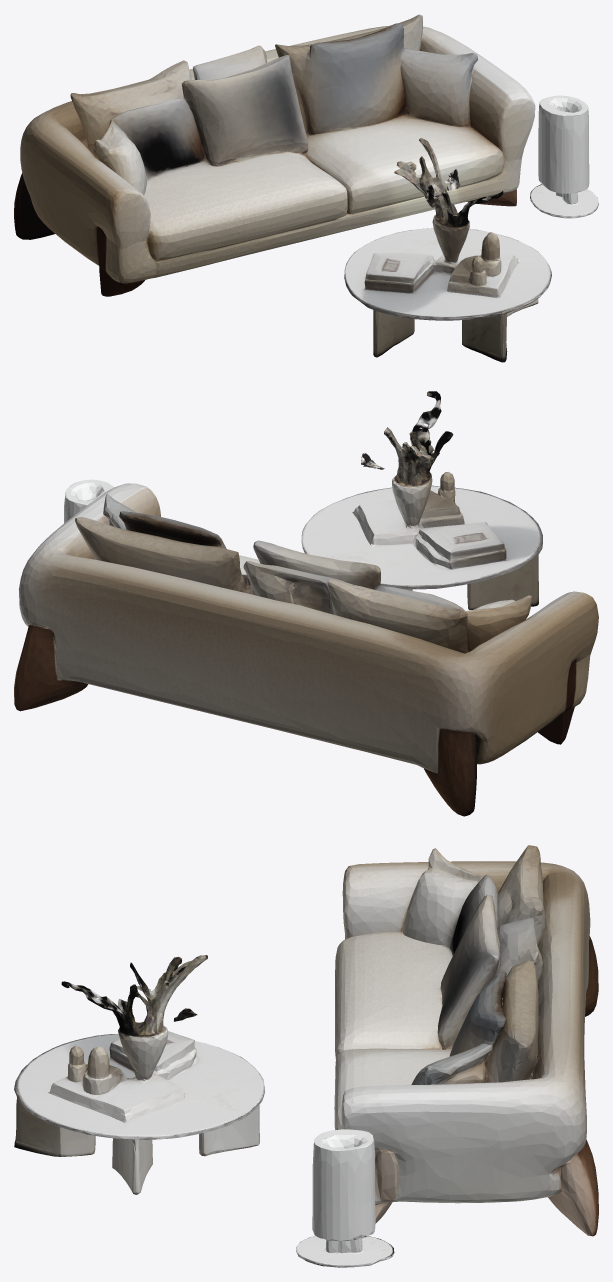
3 renders of one model, top to bottom at view 1: azimuth 30°, elevation 25°; view 2: azimuth 150°, elevation 25°; view 3: azimuth 270°, elevation 25°, orthographic. The views are drawn at different scales.
Parts seen in each view (by area): view 1: world; view 2: world; view 3: world.
Boxes of the visible parts, bbox=[...] form: world: bbox=[14, 14, 598, 362]; world: bbox=[14, 391, 598, 816]; world: bbox=[14, 845, 598, 1267].
Bounding box in the file's own units: 0.9913 × 0.3249 × 0.8977.
1 material, 1 textured.
